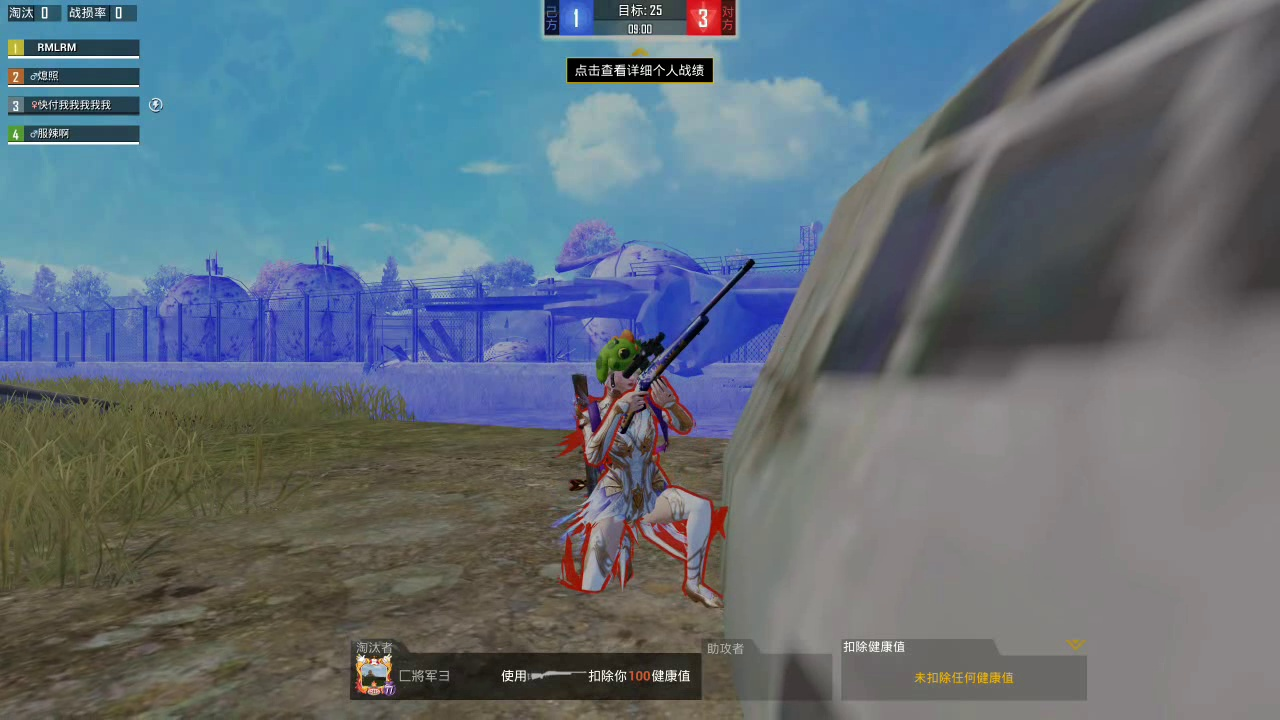enemy: (569, 334, 716, 603)
